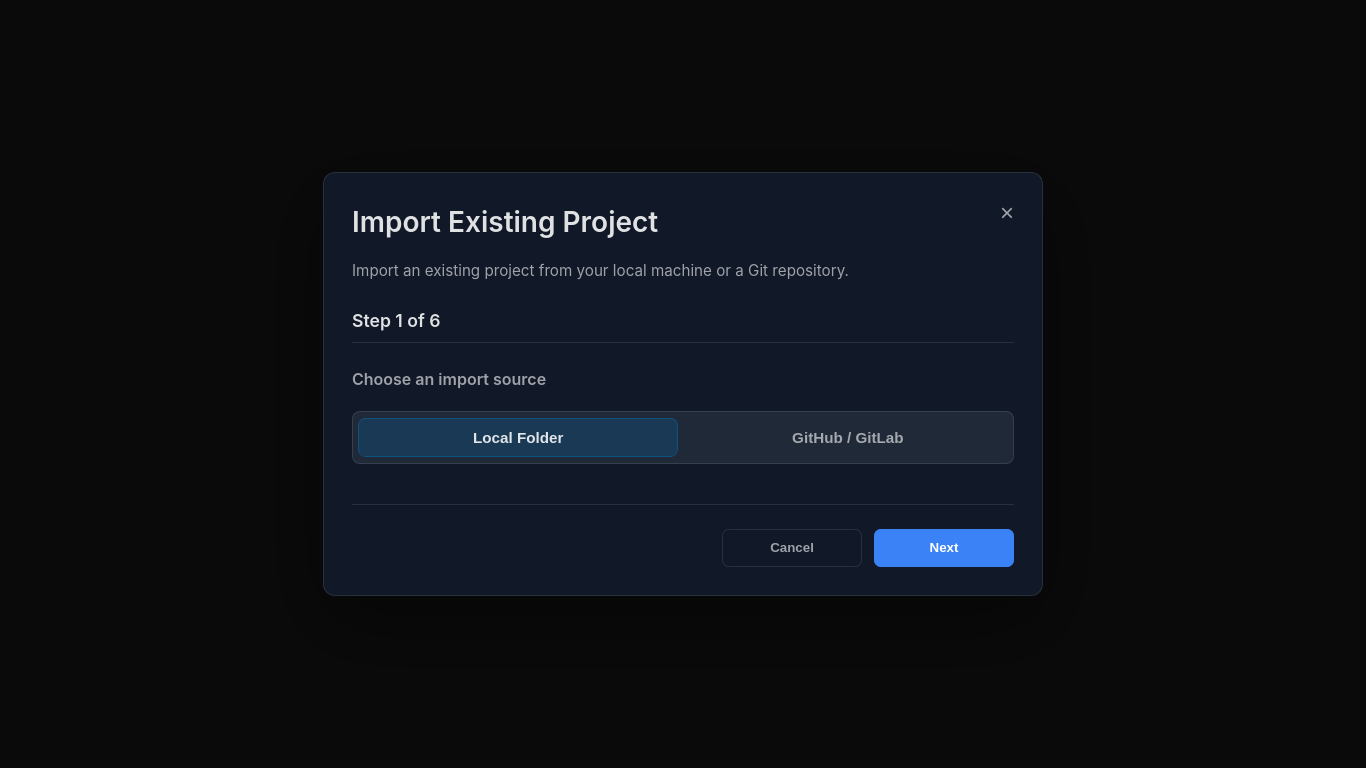
Test: ImportProject Component › Project Source Fields › shows folder path input on local source step
Click the button "Next": (944, 548) [874, 529, 1014, 566]
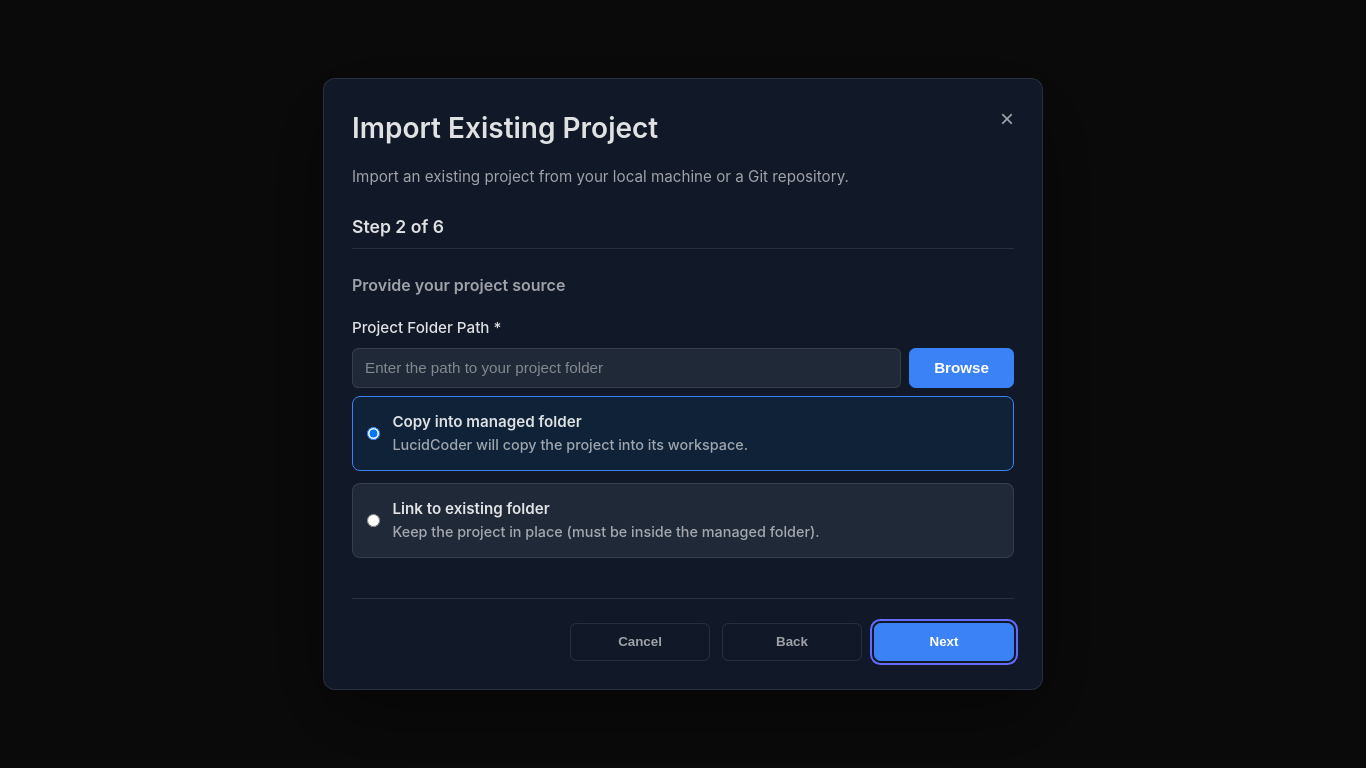
Expected: the field labelled "Project Folder Path *" is shown, [352, 348, 901, 388]
Expected: the button "Browse" is shown, [909, 348, 1014, 388]
